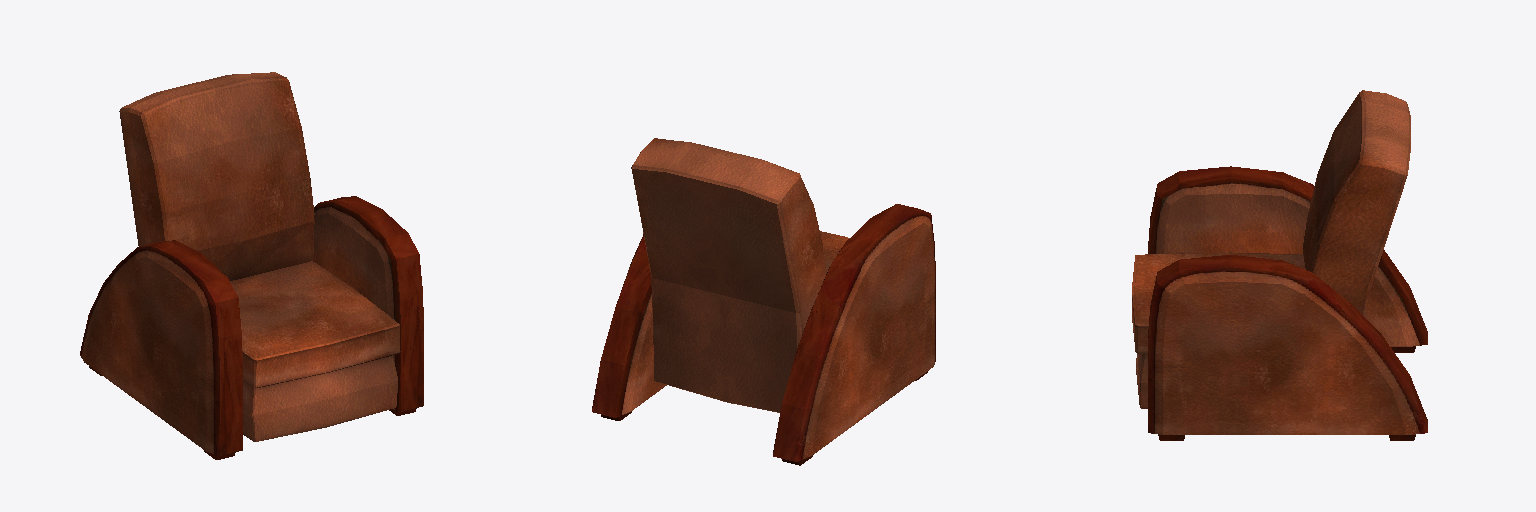
3 views of the same model, side by side, from view 1: azimuth 30°, elevation 25°; view 2: azimuth 150°, elevation 25°; view 3: azimuth 270°, elevation 25° (orthographic).
Parts seen in each view (by area): view 1: chair; view 2: chair; view 3: chair.
Boxes of the visible parts, box(x1,y1,x2,y2) form: chair: box(80, 72, 423, 459); chair: box(592, 138, 935, 465); chair: box(1132, 90, 1427, 440).
Size of the model in its own units: 134 by 162 by 160.
Materials: 1 (1 with a texture image).